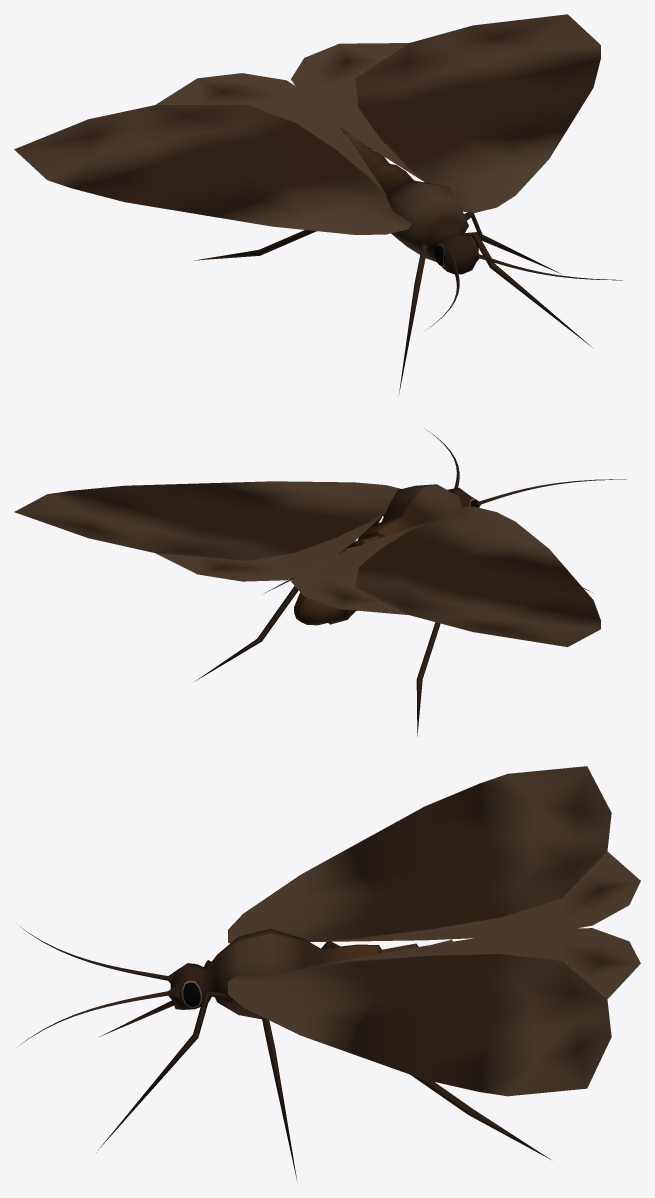
The model's file is animals-flyinginsects-moth_v1.fbx.
3 views of the same model, one above another, from view 1: azimuth 30°, elevation 25°; view 2: azimuth 150°, elevation 25°; view 3: azimuth 270°, elevation 25° (orthographic). The views are drawn at different scales.
Visible parts, largest first — view 1: Moth.001; view 2: Moth.001; view 3: Moth.001.
Part boxes in pixels (bbox=[...]): Moth.001: bbox=[14, 14, 622, 393]; Moth.001: bbox=[14, 428, 626, 736]; Moth.001: bbox=[18, 766, 640, 1179].
Bounding box in the file's own units: 0.4425 × 0.1111 × 0.3636.
